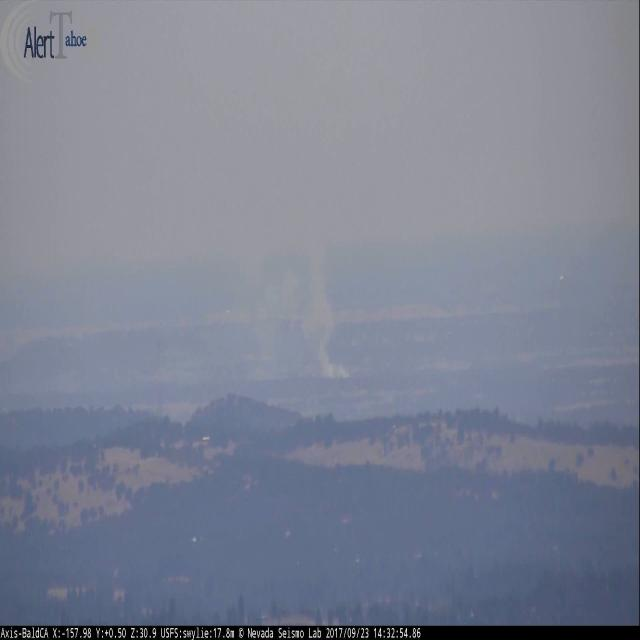smoke: (282, 271, 356, 382)
